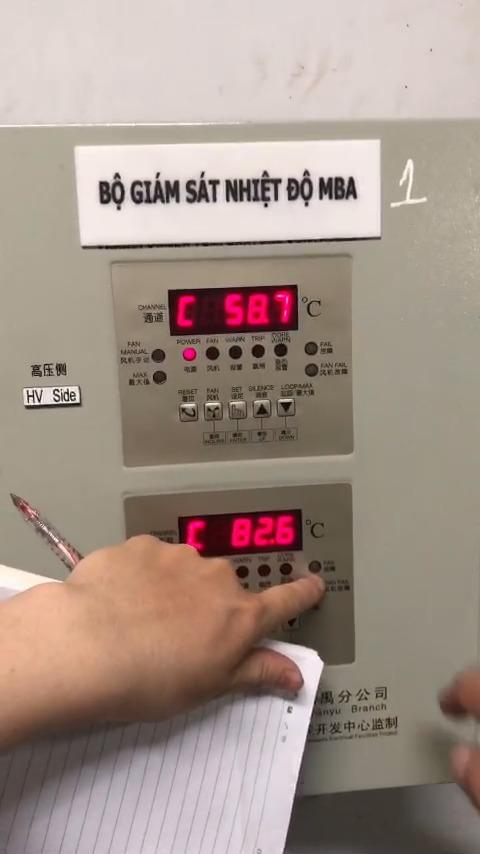led: (250, 343, 267, 360), (181, 346, 199, 362), (302, 341, 319, 357), (204, 346, 222, 361), (273, 343, 289, 359), (228, 345, 244, 361), (152, 369, 168, 385), (257, 563, 273, 579), (151, 348, 166, 364), (304, 363, 320, 378), (279, 562, 294, 577), (307, 560, 322, 574), (236, 566, 250, 581)
